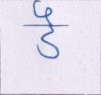ai_matra: (32, 0, 56, 24)
